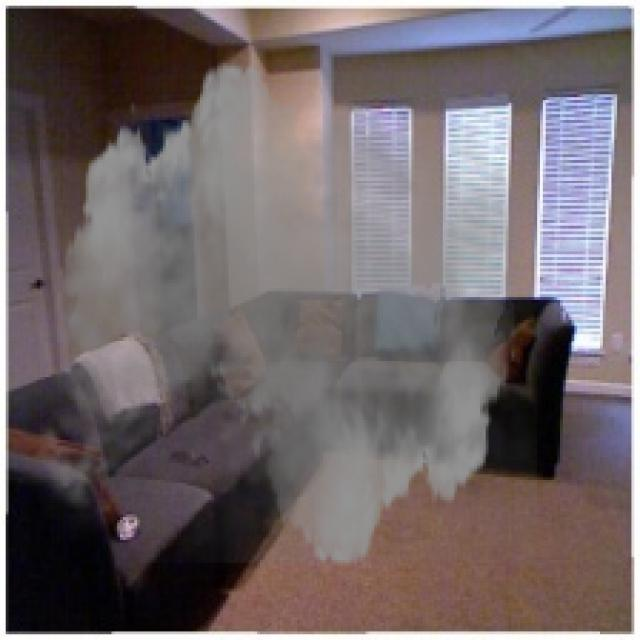smoke: (23, 46, 537, 583)
